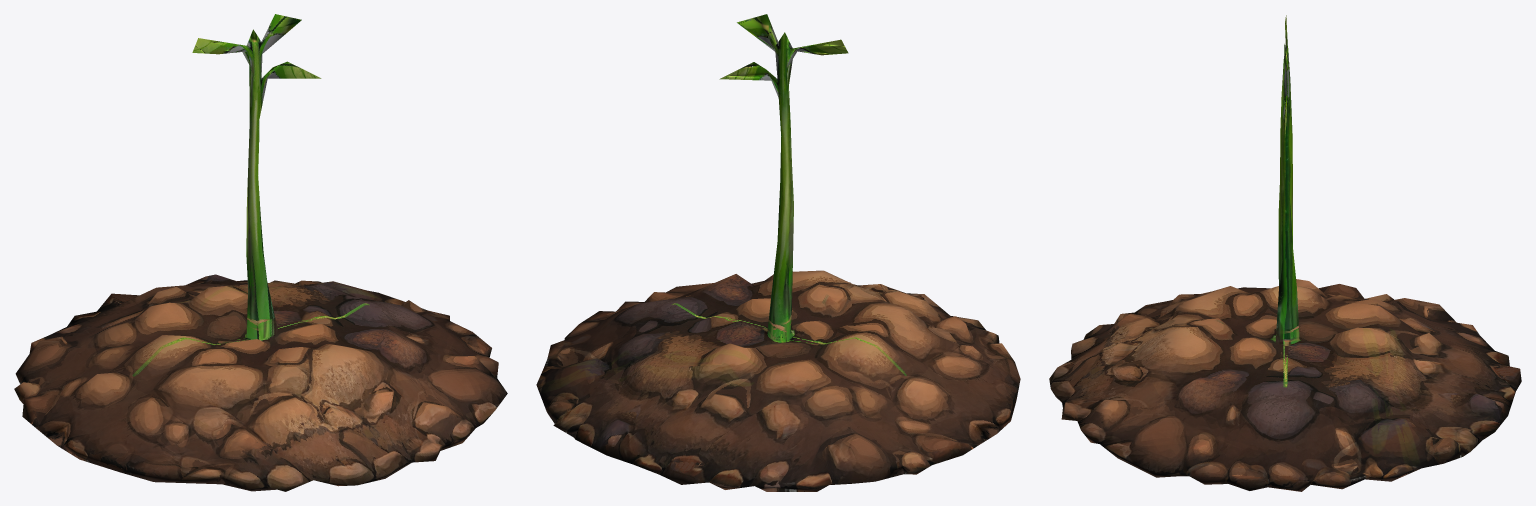
The model's file is Crop_Chili_Sprout.fbx.
3 views of the same model, side by side, from view 1: azimuth 30°, elevation 25°; view 2: azimuth 150°, elevation 25°; view 3: azimuth 270°, elevation 25° (orthographic). The views are drawn at different scales.
Parts seen in each view (by area): view 1: texture_mapping; view 2: texture_mapping; view 3: texture_mapping.
Part boxes in pixels (bbox=[...]): texture_mapping: bbox=[14, 14, 507, 491]; texture_mapping: bbox=[536, 14, 1020, 491]; texture_mapping: bbox=[1049, 15, 1521, 491].
Size of the model in its own units: 0.9773 by 0.9879 by 0.8335.
1 material, 1 textured.
